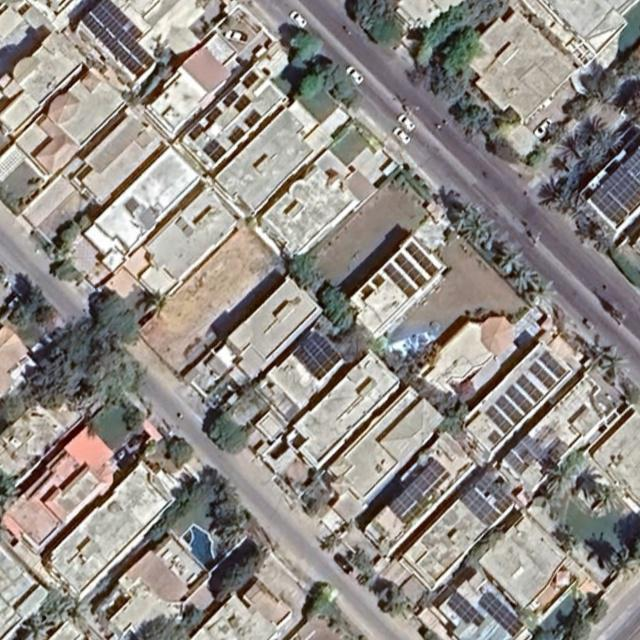solar panel: (91, 0, 163, 68), (80, 13, 146, 78), (587, 147, 640, 227), (388, 459, 452, 524), (476, 590, 525, 638), (294, 332, 342, 381), (445, 591, 487, 633), (460, 488, 502, 528), (188, 106, 224, 142), (383, 263, 417, 298), (394, 253, 427, 288), (405, 242, 438, 276), (504, 385, 534, 415), (494, 395, 523, 423), (529, 361, 557, 390), (484, 405, 512, 433), (540, 351, 567, 378), (517, 374, 543, 401), (202, 138, 228, 164), (241, 70, 260, 90), (232, 94, 251, 113), (244, 110, 262, 129), (228, 126, 246, 144), (222, 90, 240, 108), (357, 284, 374, 301), (372, 273, 385, 287)
